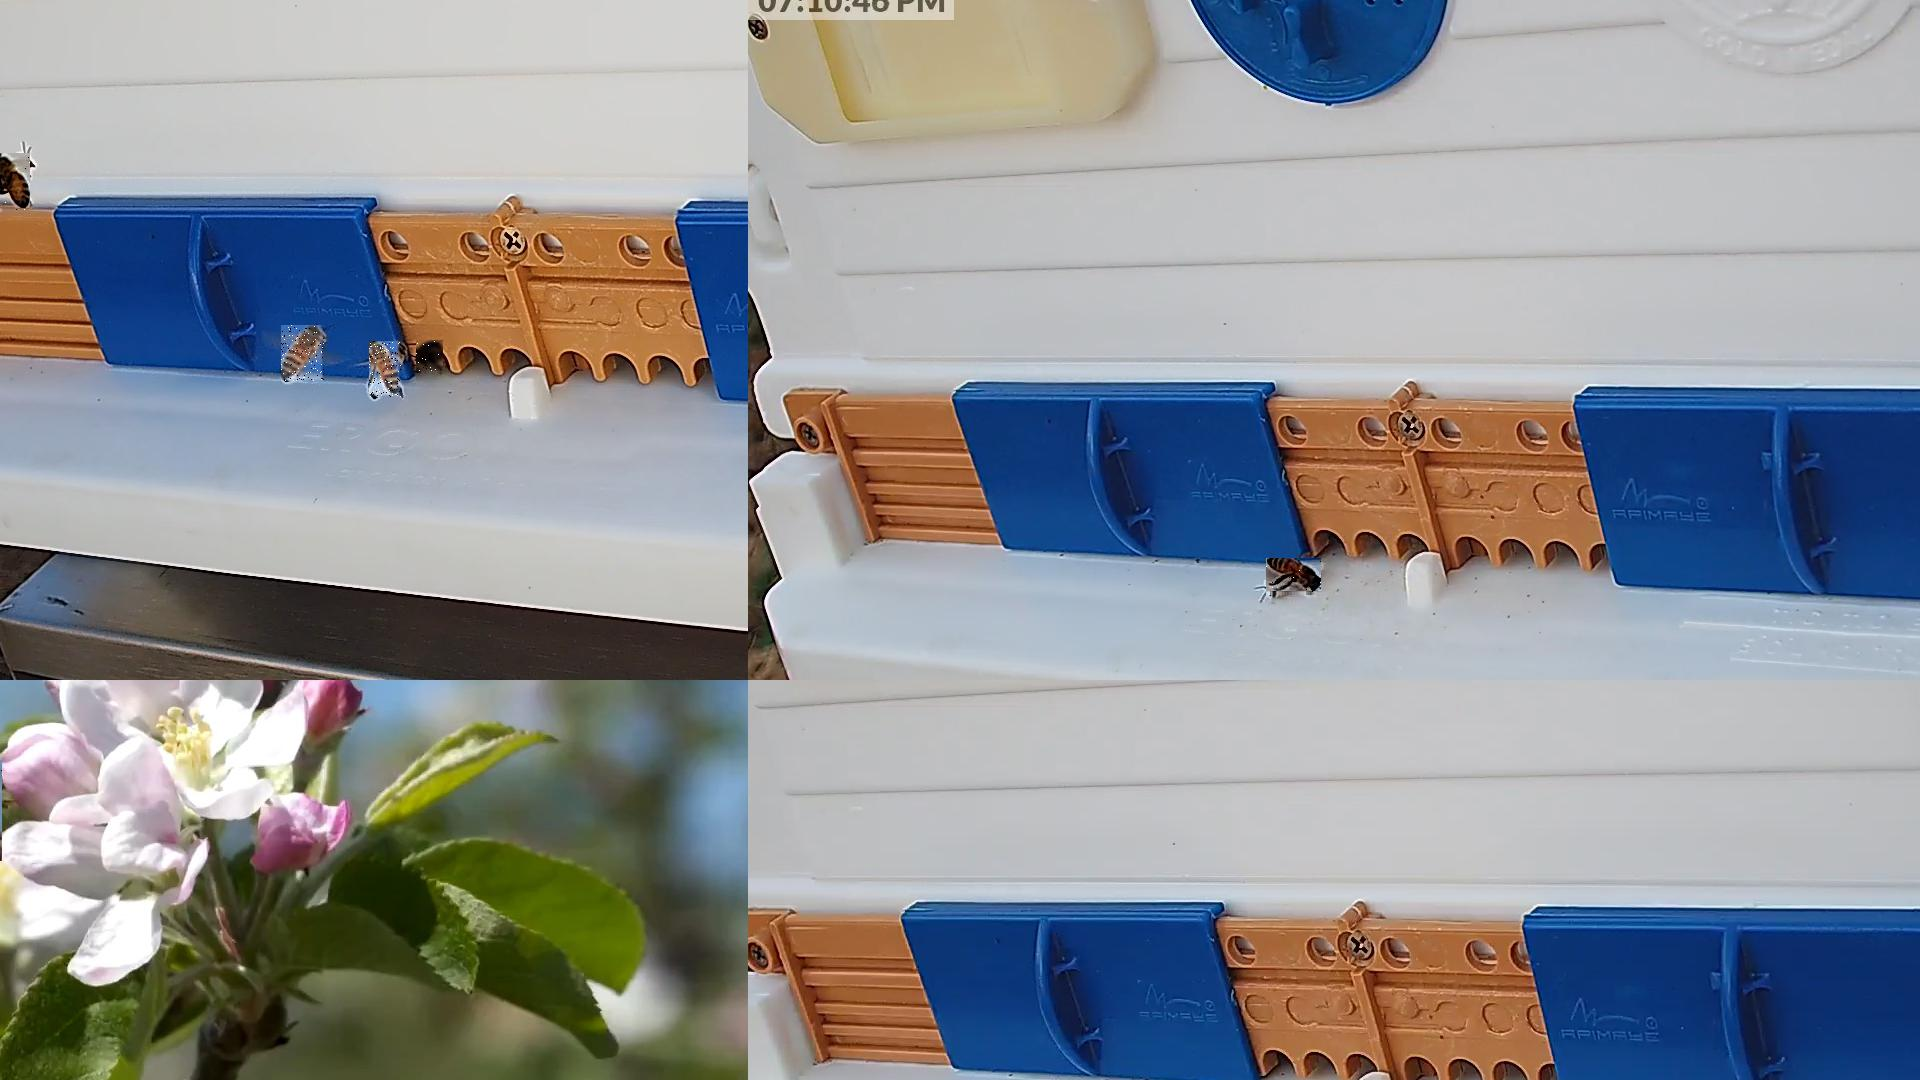bee: (282, 326, 326, 382), (1266, 559, 1323, 596), (0, 153, 32, 214), (371, 342, 404, 398), (415, 340, 444, 373)
